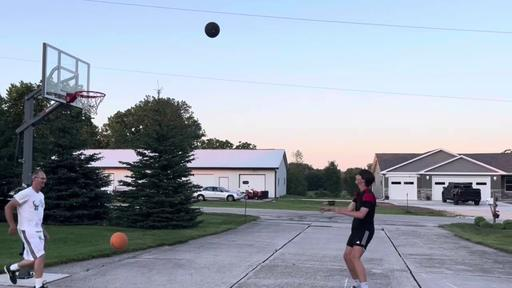ball: (109, 232, 129, 252), (205, 22, 220, 38)
human: (319, 170, 376, 288), (4, 169, 50, 288)
rim: (74, 91, 105, 117)
